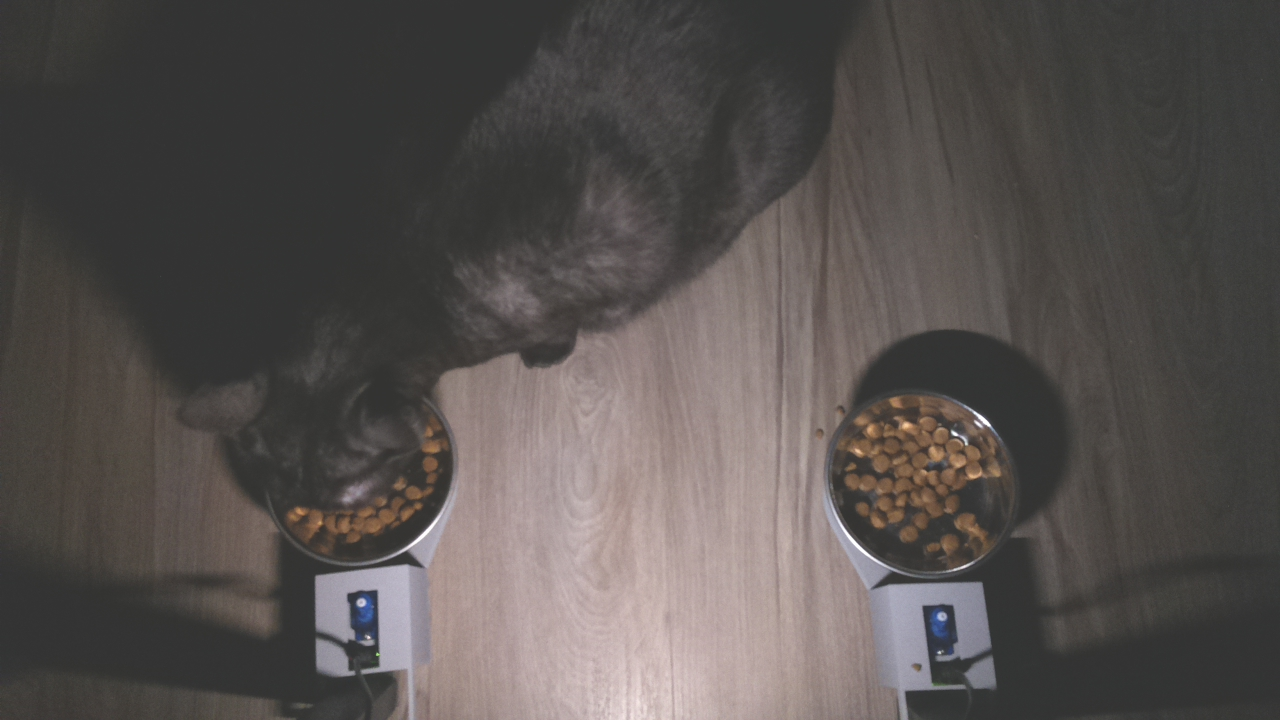open_bowl: (819, 379, 1023, 585)
saki_eating: (175, 276, 468, 572)
